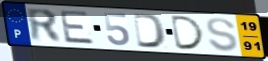5: (102, 12, 132, 47)
D: (131, 12, 168, 50), (170, 14, 207, 51)
E: (58, 9, 97, 46)
R: (25, 7, 64, 44)
S: (205, 17, 240, 54)
